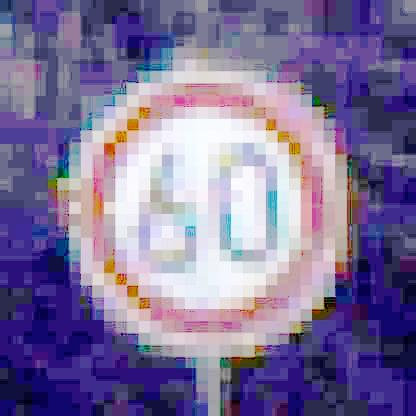Speed Limit -60-: (72, 64, 337, 350)
